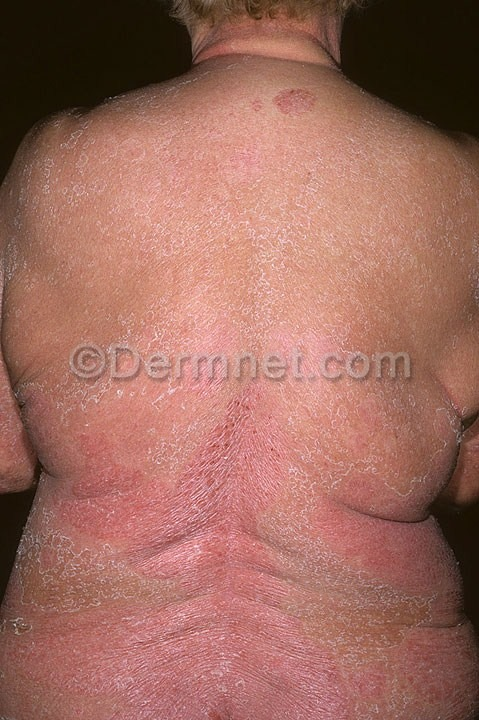Psoriasis: (69, 396, 452, 720), (78, 128, 477, 348), (192, 66, 340, 133)
